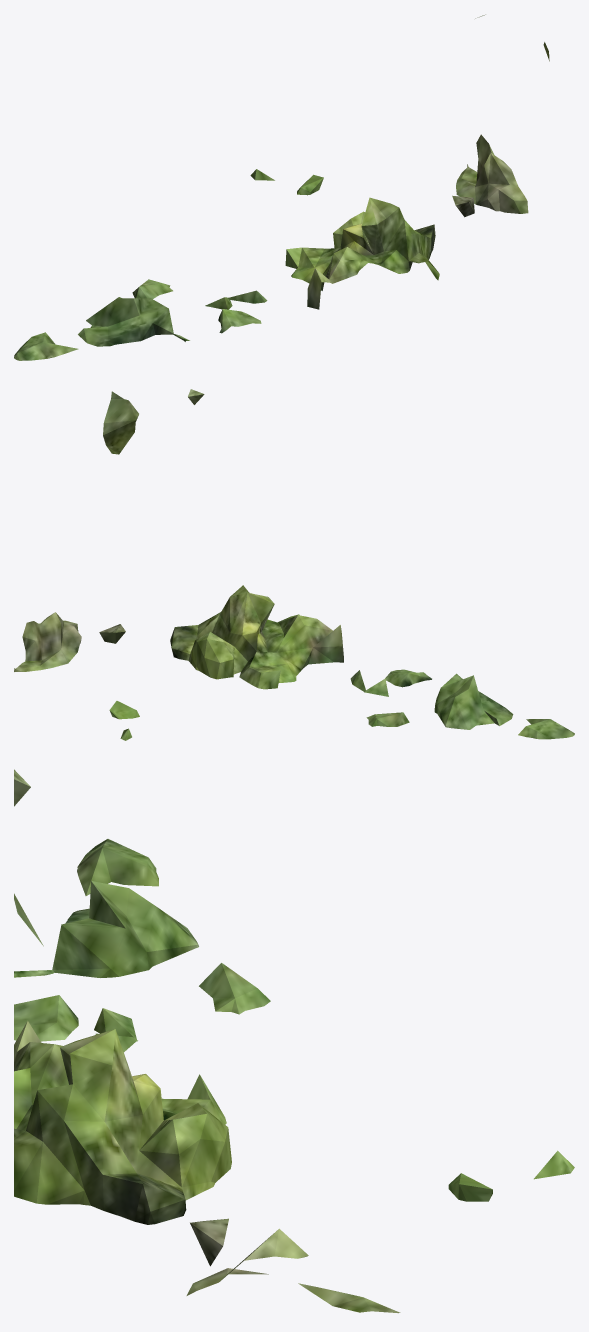
3 views of the same model, one above another, from view 1: azimuth 30°, elevation 25°; view 2: azimuth 150°, elevation 25°; view 3: azimuth 270°, elevation 25° (orthographic). The views are drawn at different scales.
Bounding box in the file's own units: 23.26 × 10.58 × 11.66.
Materials: 1 (1 with a texture image).
